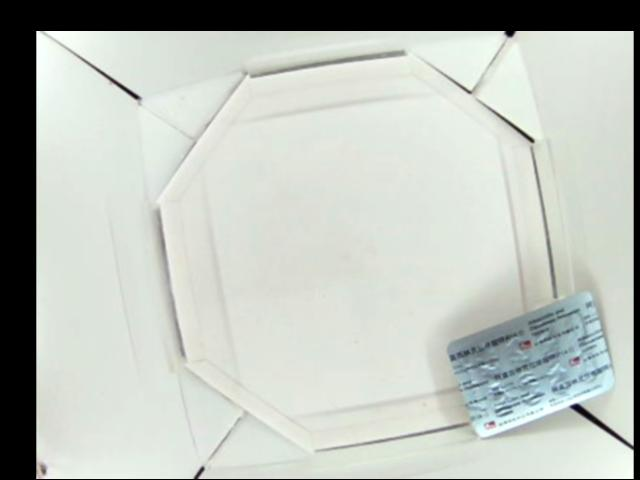Medicine: (445, 291, 615, 435)
